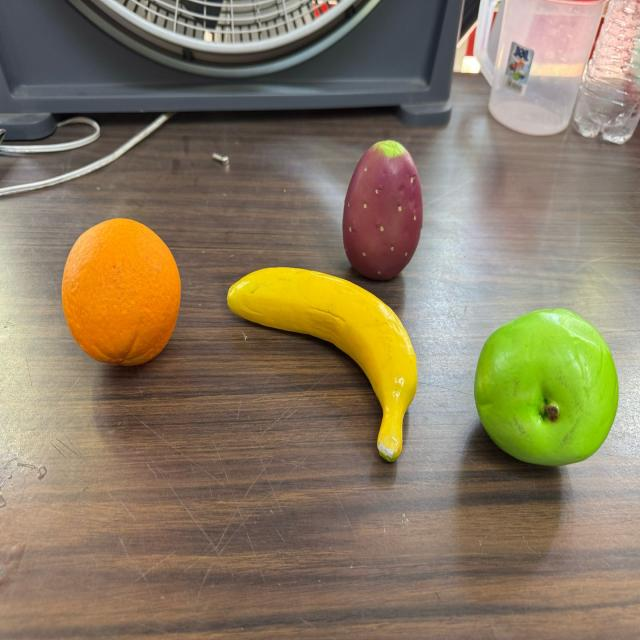banana: (227, 266, 419, 464)
orange: (61, 218, 183, 366)
pear: (474, 307, 618, 466)
tuna: (342, 140, 422, 280)
